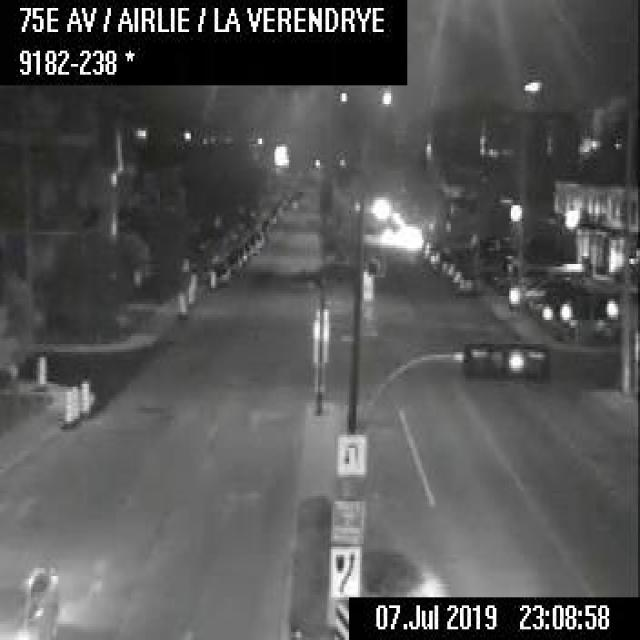construction: (35, 346, 49, 386), (60, 384, 72, 426), (76, 376, 88, 416), (69, 384, 78, 419), (185, 270, 194, 304), (174, 286, 184, 315), (207, 264, 215, 285)
vehicle: (0, 555, 60, 637), (523, 274, 546, 303), (456, 272, 475, 290), (213, 263, 229, 283)
